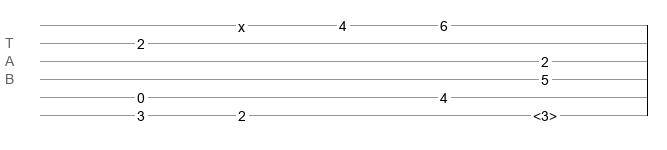0: (137, 90, 145, 100)
2: (137, 36, 145, 46), (238, 108, 246, 118), (541, 54, 549, 64)
3: (137, 108, 145, 118)
4: (339, 18, 347, 28), (440, 90, 448, 100)
5: (541, 72, 549, 82)
6: (440, 18, 448, 28)
harmonic: (533, 108, 557, 118)
x: (238, 19, 245, 27)
